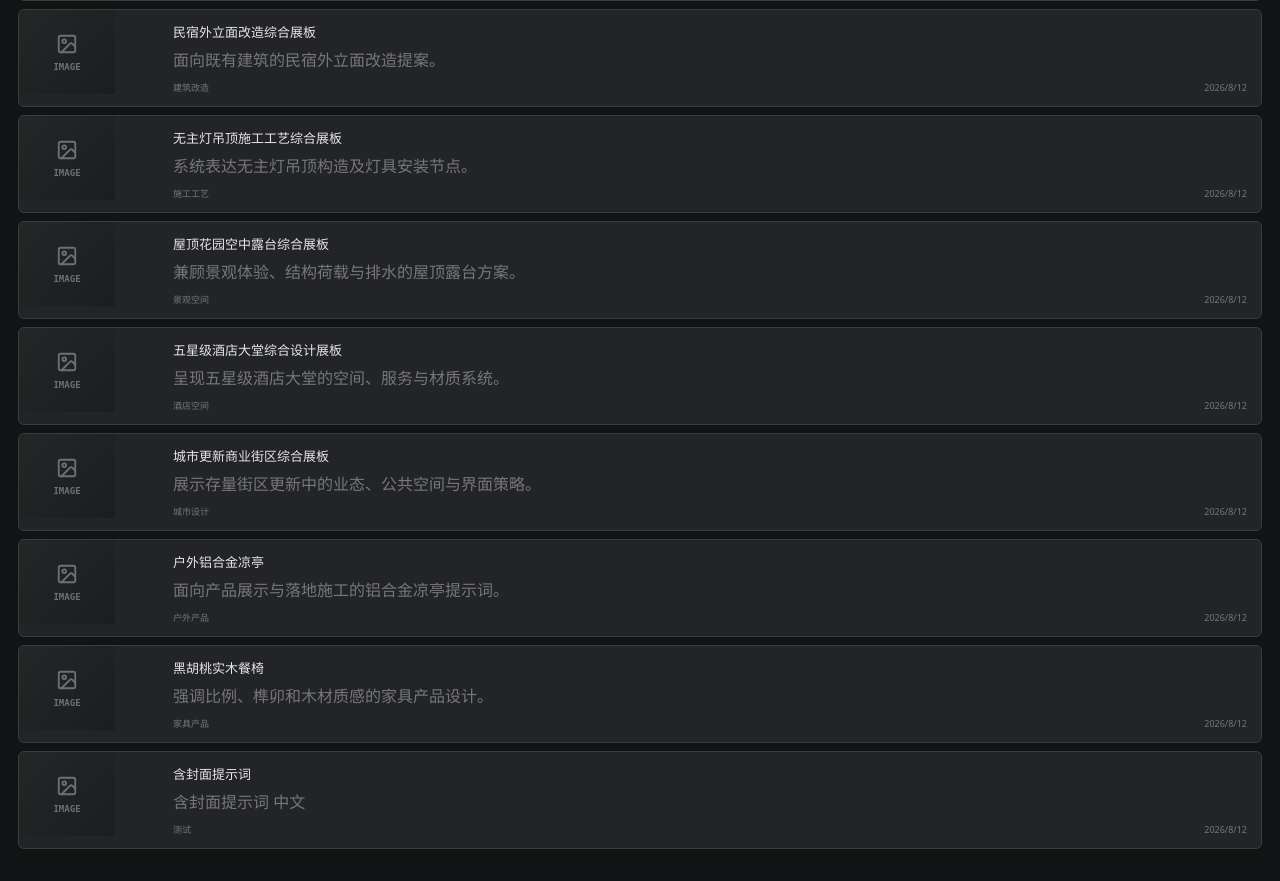
it: LibraryPage › opens a Prompt detail with its Blob cover and edits content
(page scrolled)
Click the button with aria-label "打开含封面提示词" at (67, 794), box [18,751,1262,849]
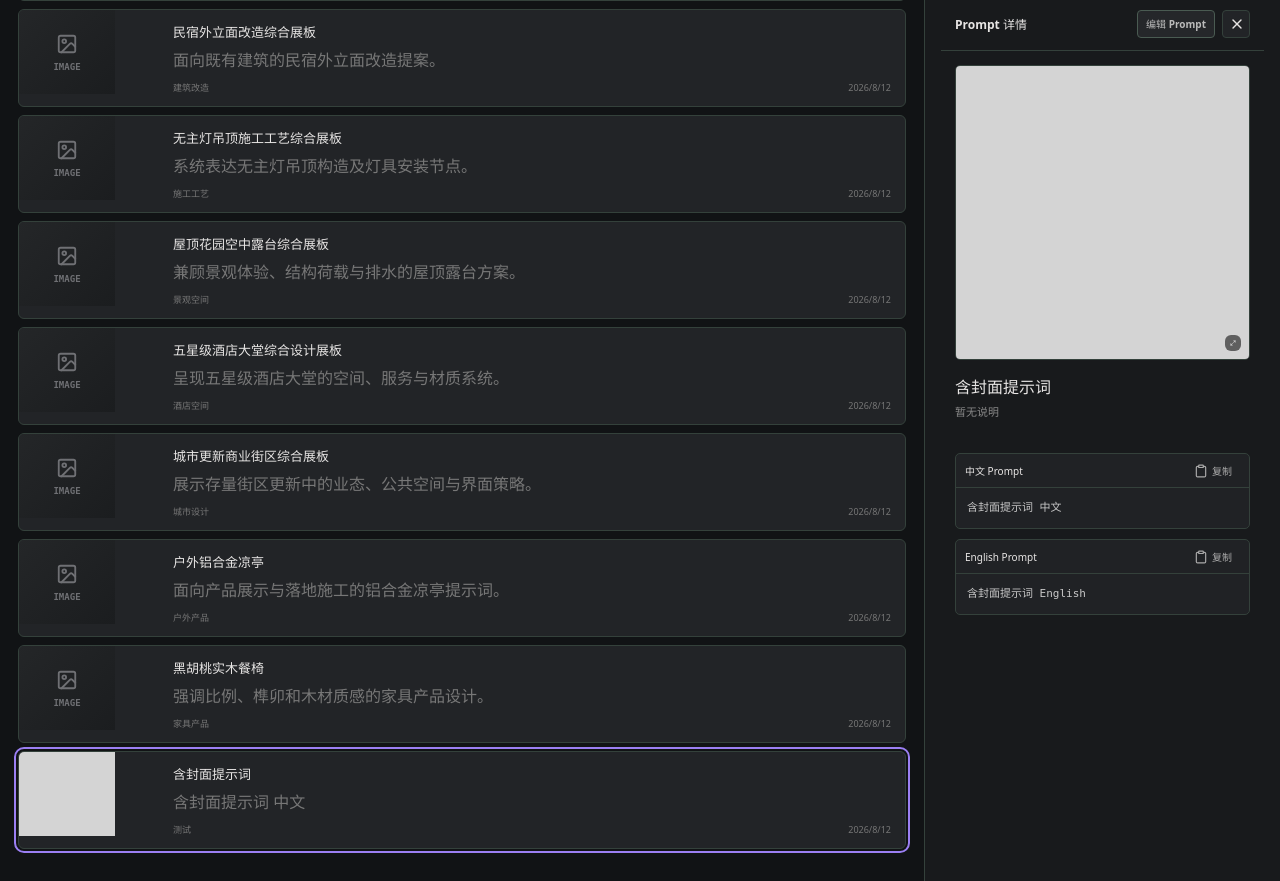
Click the button "编辑 Prompt" at (1176, 24), box [1137,10,1215,38]
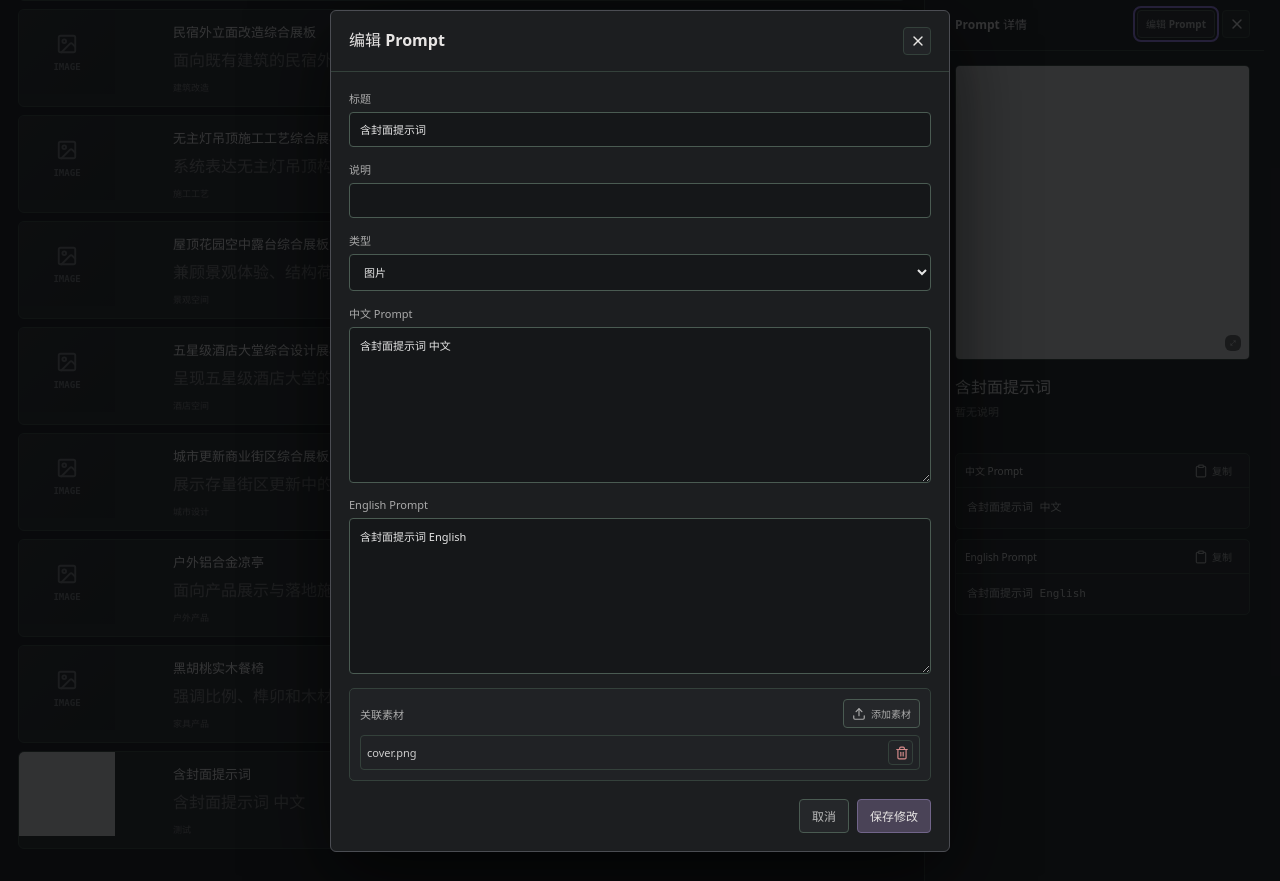
Replace the text in the field labelled "标题" with "已修改标题" at (640, 129), box [349,112,931,147]
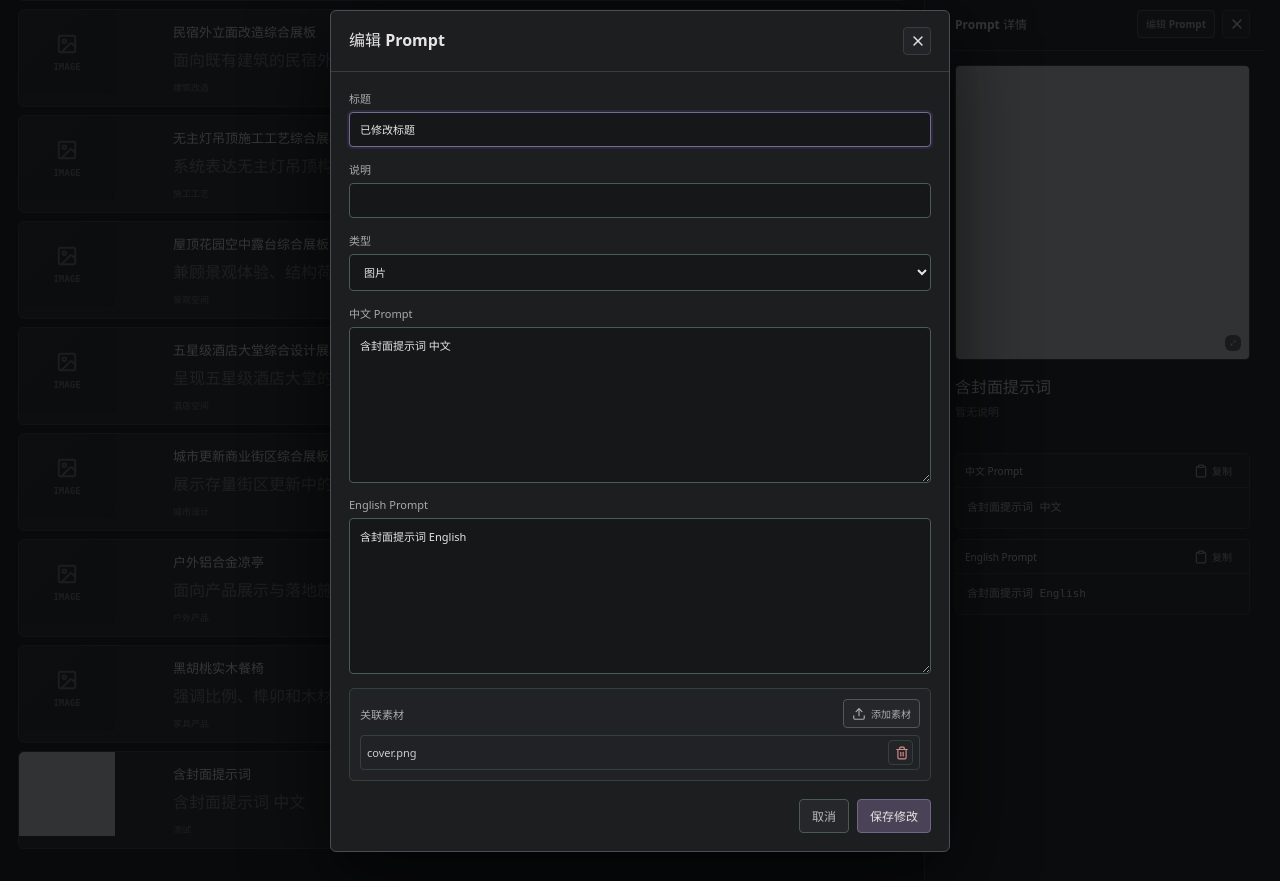
Click the button "保存修改" at (894, 816), box [857,799,931,833]
(page scrolled)
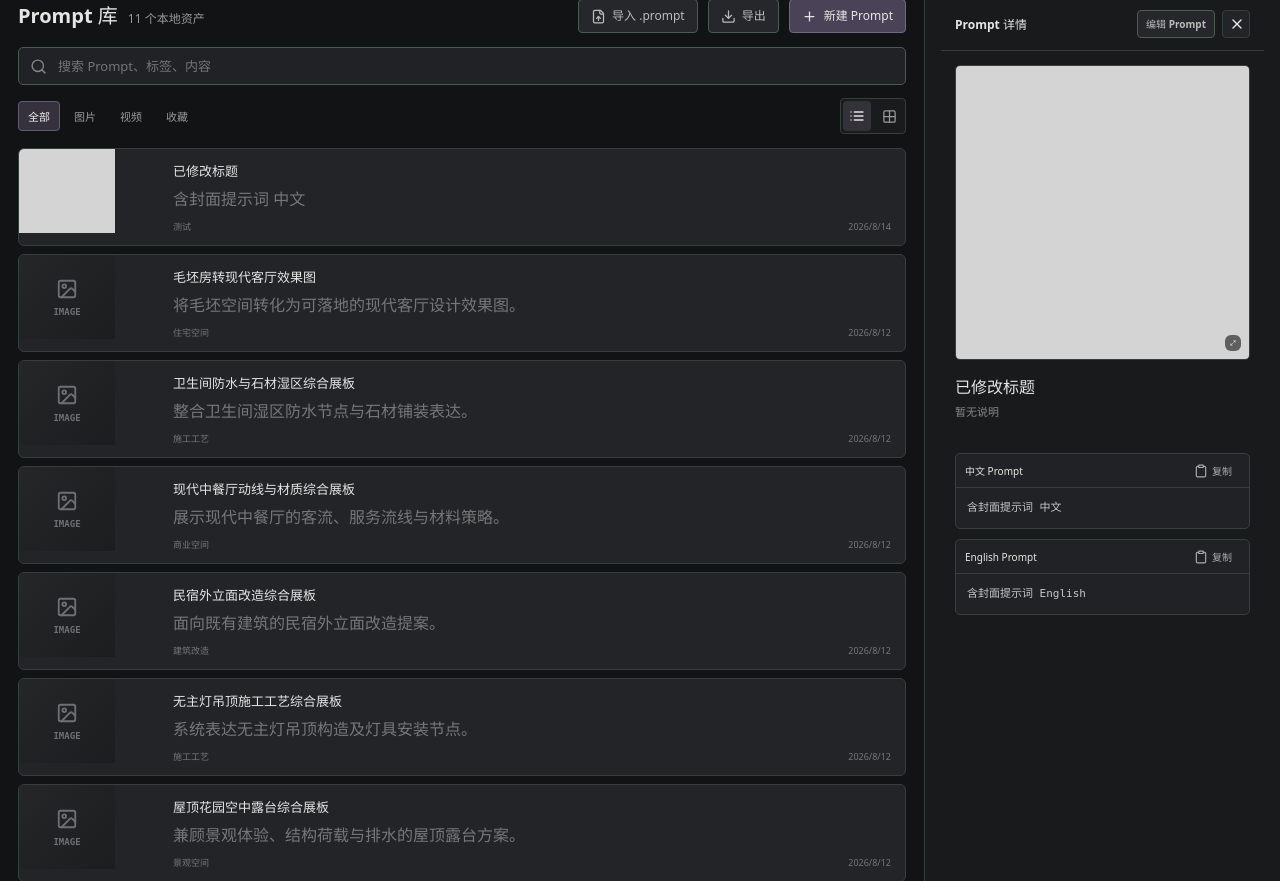
Now the number of headings "已修改标题" is 2, box [173,161,238,180]; [955,374,1035,398]
